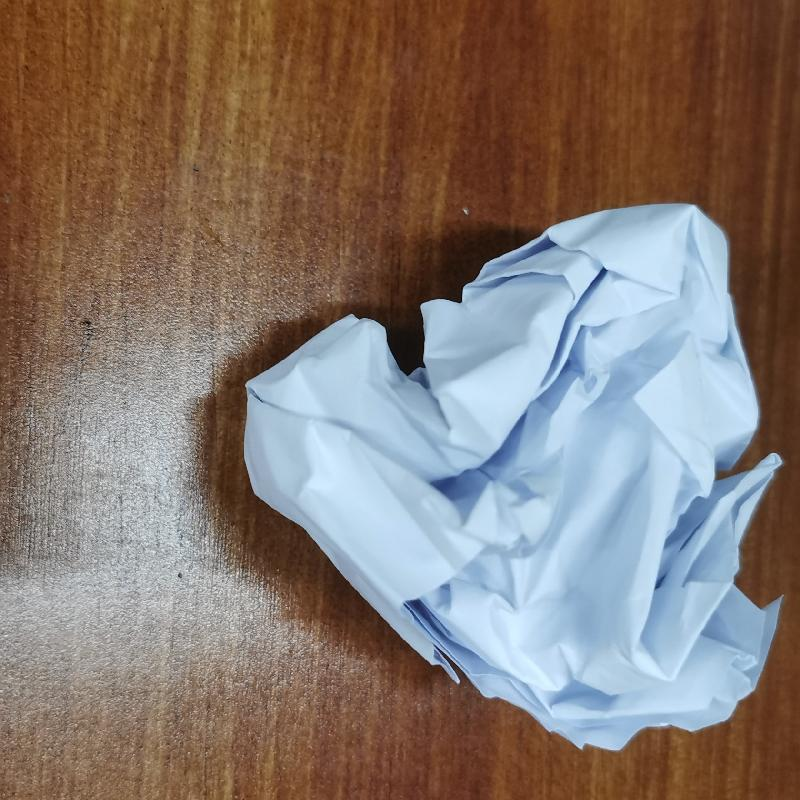spitball: (236, 190, 792, 761)
